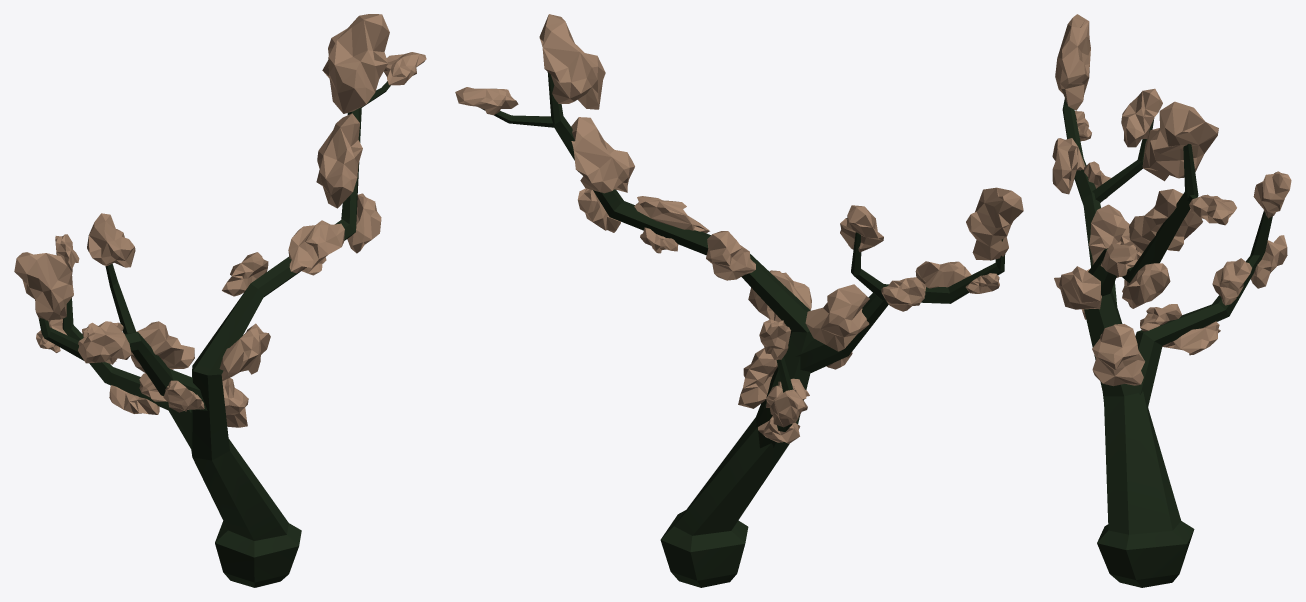
File: peach_tree4.FBX
3 renders of one model, left to right at view 1: azimuth 30°, elevation 25°; view 2: azimuth 150°, elevation 25°; view 3: azimuth 270°, elevation 25°, orthographic. The views are drawn at different scales.
Parts seen in each view (by area): view 1: peach_tree4; view 2: peach_tree4; view 3: peach_tree4.
Part boxes in pixels (box(x1,y1,x2,y2)): peach_tree4: box(14, 14, 426, 587); peach_tree4: box(455, 14, 1023, 587); peach_tree4: box(1052, 14, 1291, 587).
Size of the model in its own units: 381 by 158 by 393.
